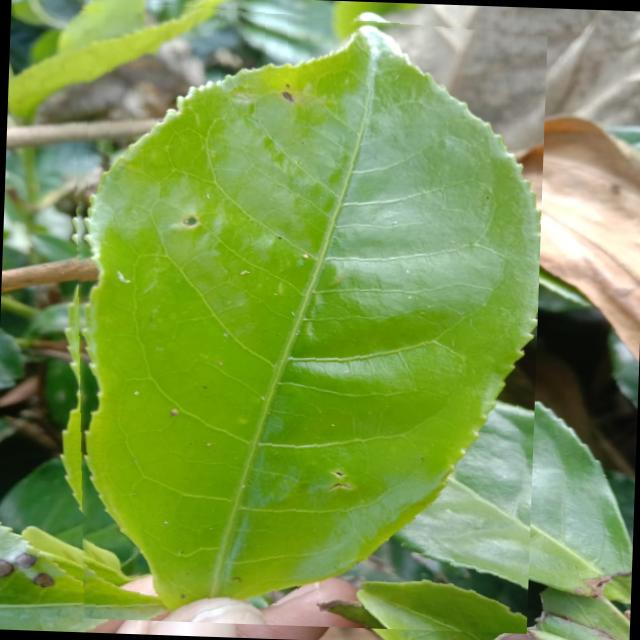Category B(2-4 days): (51, 0, 547, 633)
